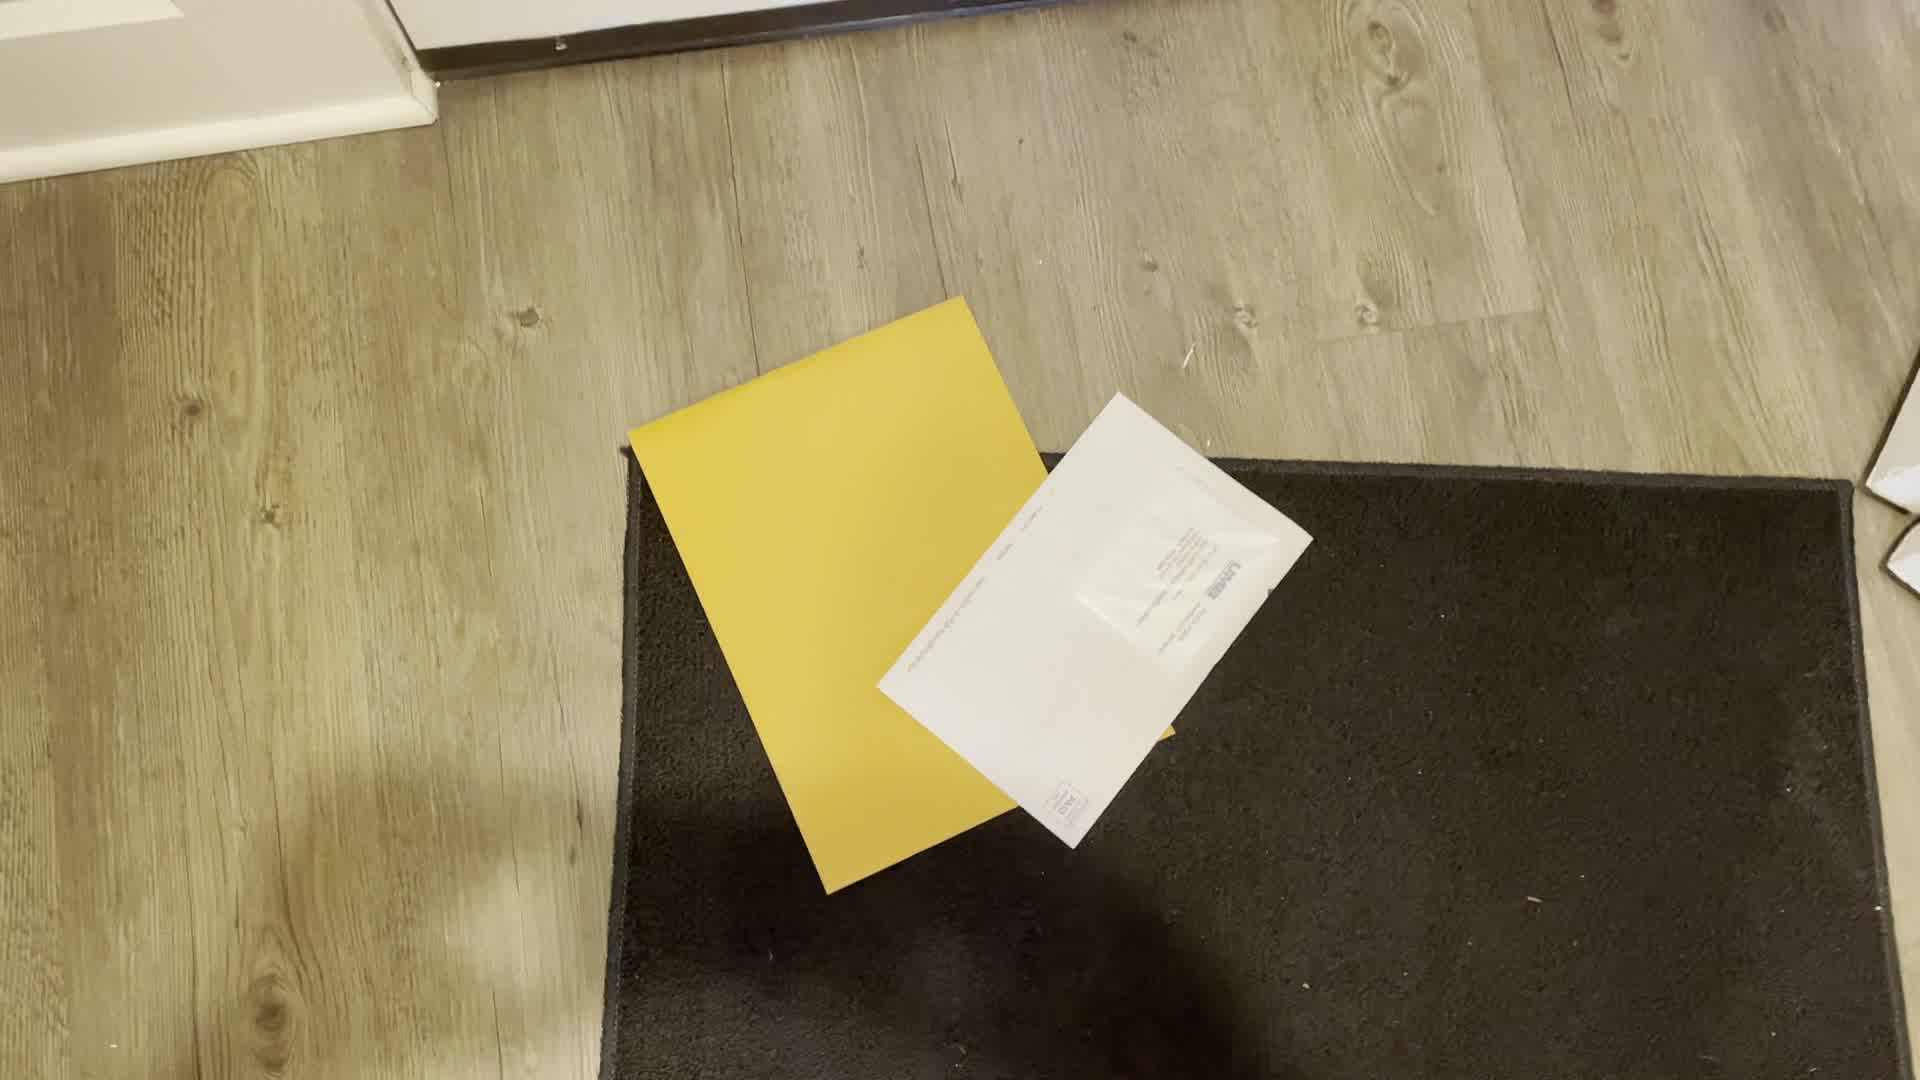envelope: (621, 282, 1044, 894), (864, 389, 1313, 852)
